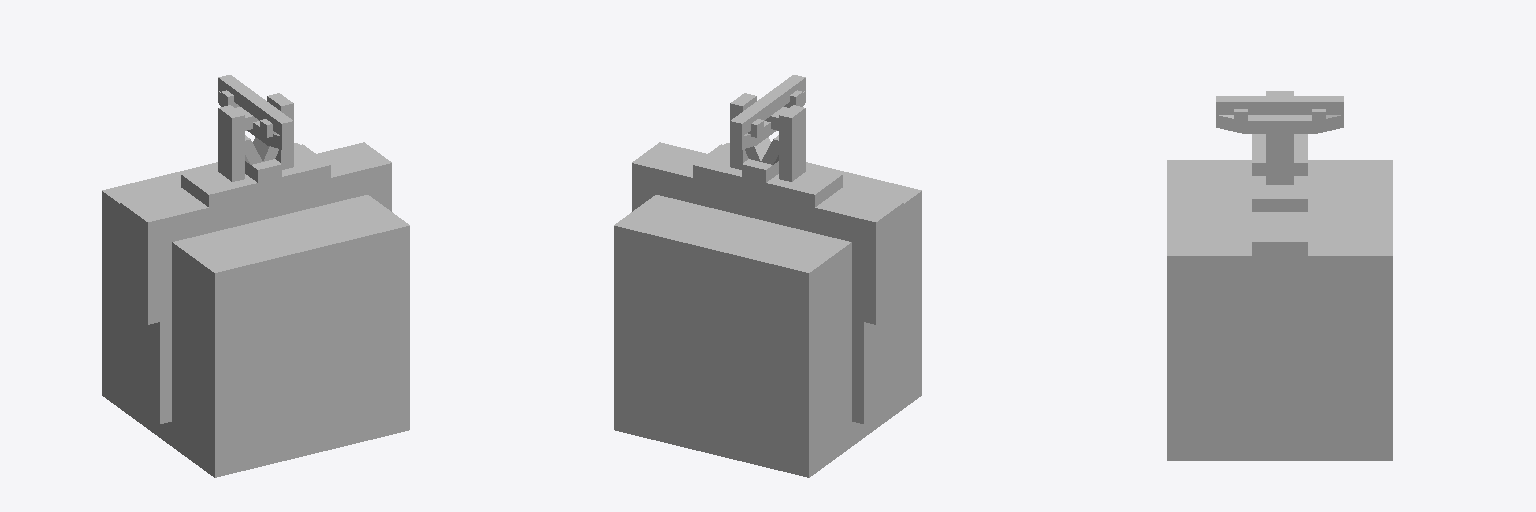
Rendered from skycrate.obj.
The picture shows the model from 3 angles: view 1: azimuth 30°, elevation 25°; view 2: azimuth 150°, elevation 25°; view 3: azimuth 270°, elevation 25°; orthographic projection.
Parts seen in each view (by area): view 1: Box, Hook; view 2: Box, Hook; view 3: Box, Hook.
Boxes of the visible parts, box(x1,y1,x2,y2) form: Box: box(102, 93, 409, 477); Hook: box(218, 75, 293, 149); Box: box(614, 93, 921, 477); Hook: box(730, 75, 805, 149); Box: box(1167, 91, 1392, 460); Hook: box(1216, 96, 1343, 133).
Size of the model in its own units: 1.25 by 1.53 by 1.